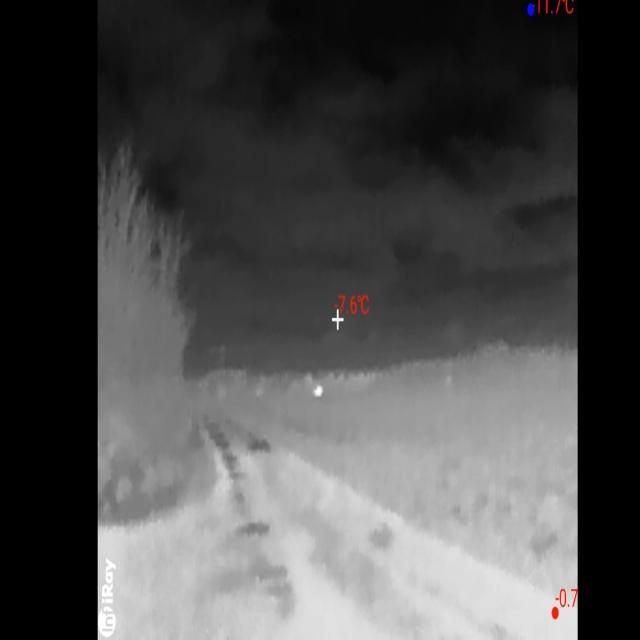drone: (310, 382, 326, 401)
